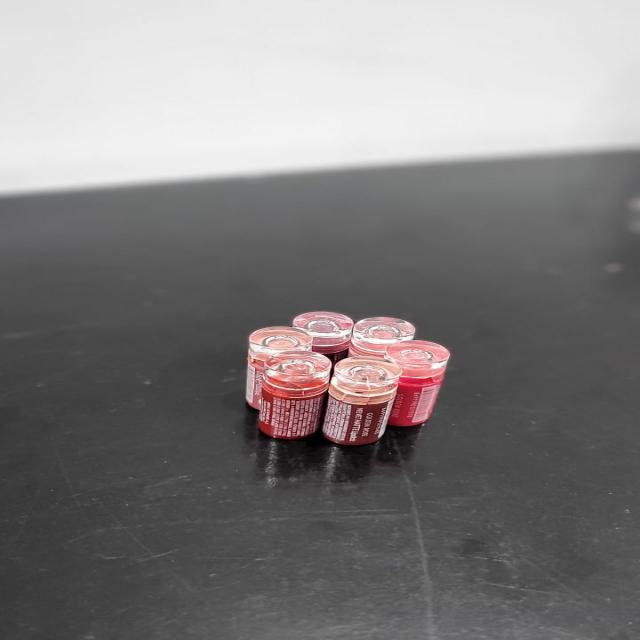lip stick: (223, 308, 458, 449), (253, 349, 335, 444), (379, 334, 458, 426), (321, 355, 400, 445), (240, 325, 320, 413), (284, 307, 357, 361), (349, 311, 423, 355)
